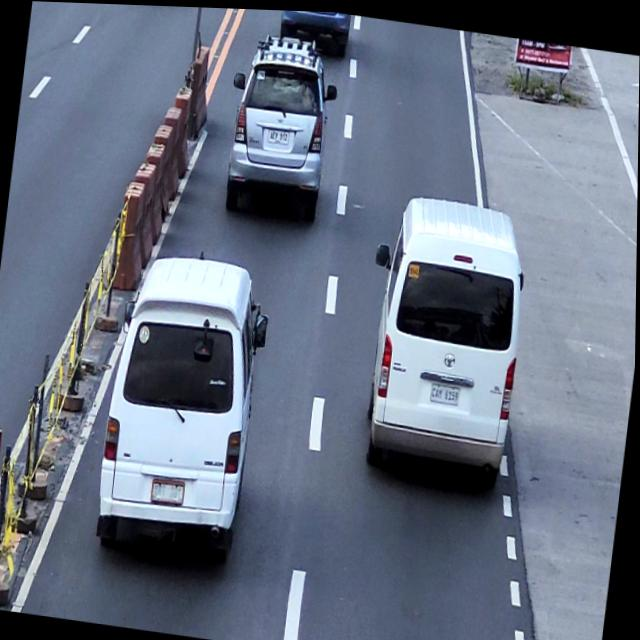Car: (90, 244, 275, 581), (350, 186, 534, 491), (218, 24, 343, 227), (276, 8, 352, 57)
License-Plate: (152, 480, 185, 504), (430, 379, 461, 403), (267, 126, 290, 142)
